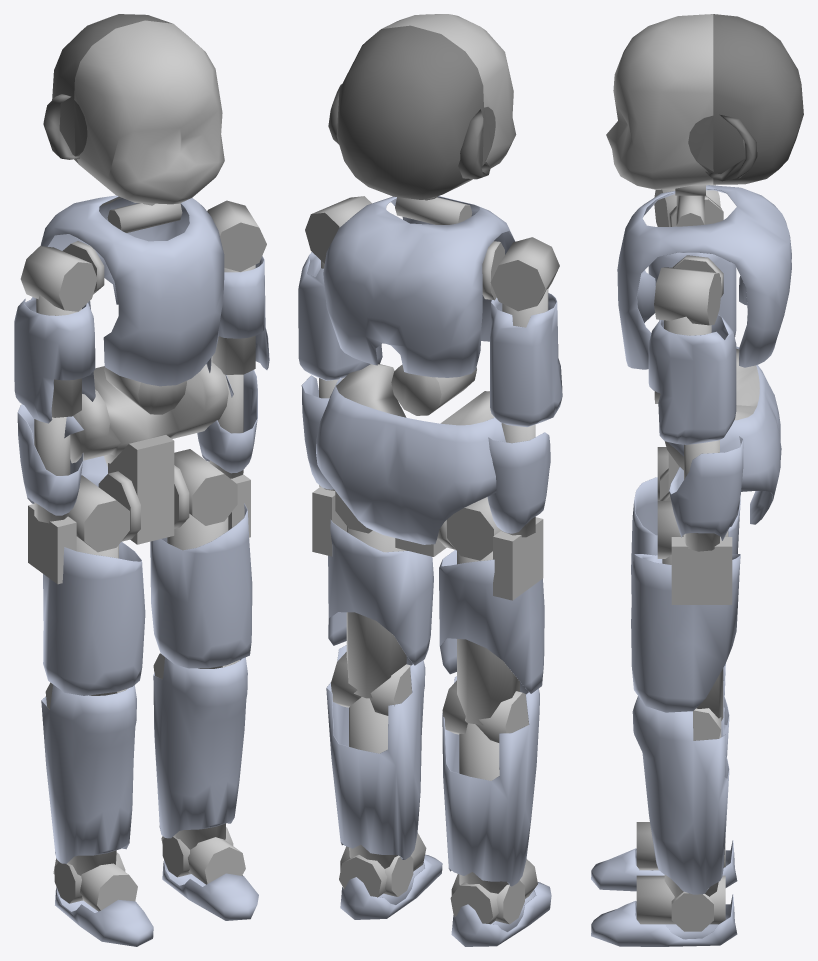
The model's file is icub_simple.dae.
3 renders of one model, left to right at view 1: azimuth 30°, elevation 25°; view 2: azimuth 150°, elevation 25°; view 3: azimuth 270°, elevation 25°, orthographic. The views are drawn at different scales.
Parts seen in each view (by area): view 1: head_mesh, torso_mesh, l_shank_mesh, r_shank_mesh, l_thigh_mesh, r_thigh_mesh, pelvis_mesh, r_arm_mesh, r_forearm_mesh, l_arm_mesh, r_foot_mesh, l_foot_mesh (+14 smaller); view 2: head_mesh, torso_mesh, pelvis_mesh, l_thigh_mesh, r_thigh_mesh, l_shank_mesh, r_shank_mesh, r_arm_mesh, r_forearm_mesh, l_arm_mesh, r_foot_mesh, l_foot_mesh (+10 smaller); view 3: head_mesh, torso_mesh, l_shank_mesh, l_thigh_mesh, l_arm_mesh, l_forearm_mesh, pelvis_mesh, l_foot_mesh, l_hand_mesh, l_shoulder_2_mesh, r_foot_mesh, r_thigh_mesh (+7 smaller).
Boxes of the visible parts, x1=… form: head_mesh: x1=43, y1=14, x2=224, y2=204; torso_mesh: x1=40, y1=195, x2=224, y2=386; l_shank_mesh: x1=153, y1=657, x2=247, y2=849; r_shank_mesh: x1=41, y1=684, x2=136, y2=875; l_thigh_mesh: x1=150, y1=503, x2=252, y2=679; r_thigh_mesh: x1=43, y1=536, x2=145, y2=709; pelvis_mesh: x1=64, y1=360, x2=233, y2=486; r_arm_mesh: x1=14, y1=294, x2=95, y2=423; r_forearm_mesh: x1=17, y1=404, x2=83, y2=523; l_arm_mesh: x1=206, y1=256, x2=269, y2=374; r_foot_mesh: x1=53, y1=858, x2=153, y2=946; l_foot_mesh: x1=161, y1=836, x2=258, y2=920; head_mesh: x1=328, y1=14, x2=516, y2=199; torso_mesh: x1=323, y1=196, x2=515, y2=377; pelvis_mesh: x1=316, y1=364, x2=505, y2=544; l_thigh_mesh: x1=328, y1=520, x2=433, y2=715; r_thigh_mesh: x1=439, y1=550, x2=544, y2=742; l_shank_mesh: x1=326, y1=645, x2=425, y2=868; r_shank_mesh: x1=442, y1=676, x2=539, y2=893; r_arm_mesh: x1=490, y1=289, x2=562, y2=427; r_forearm_mesh: x1=487, y1=423, x2=550, y2=537; l_arm_mesh: x1=298, y1=252, x2=382, y2=380; r_foot_mesh: x1=450, y1=859, x2=551, y2=946; l_foot_mesh: x1=339, y1=833, x2=442, y2=919; head_mesh: x1=606, y1=14, x2=803, y2=189; torso_mesh: x1=617, y1=185, x2=791, y2=369; l_shank_mesh: x1=632, y1=696, x2=729, y2=897; l_thigh_mesh: x1=631, y1=554, x2=740, y2=740; l_arm_mesh: x1=648, y1=315, x2=736, y2=444; l_forearm_mesh: x1=669, y1=436, x2=743, y2=551; pelvis_mesh: x1=654, y1=348, x2=781, y2=524; l_foot_mesh: x1=591, y1=875, x2=737, y2=946; l_hand_mesh: x1=671, y1=537, x2=732, y2=604; l_shoulder_2_mesh: x1=654, y1=267, x2=721, y2=325; r_foot_mesh: x1=591, y1=822, x2=737, y2=891; r_thigh_mesh: x1=631, y1=477, x2=740, y2=595.
Bounding box in the file's own units: 0.2951 × 0.2276 × 1.04.
